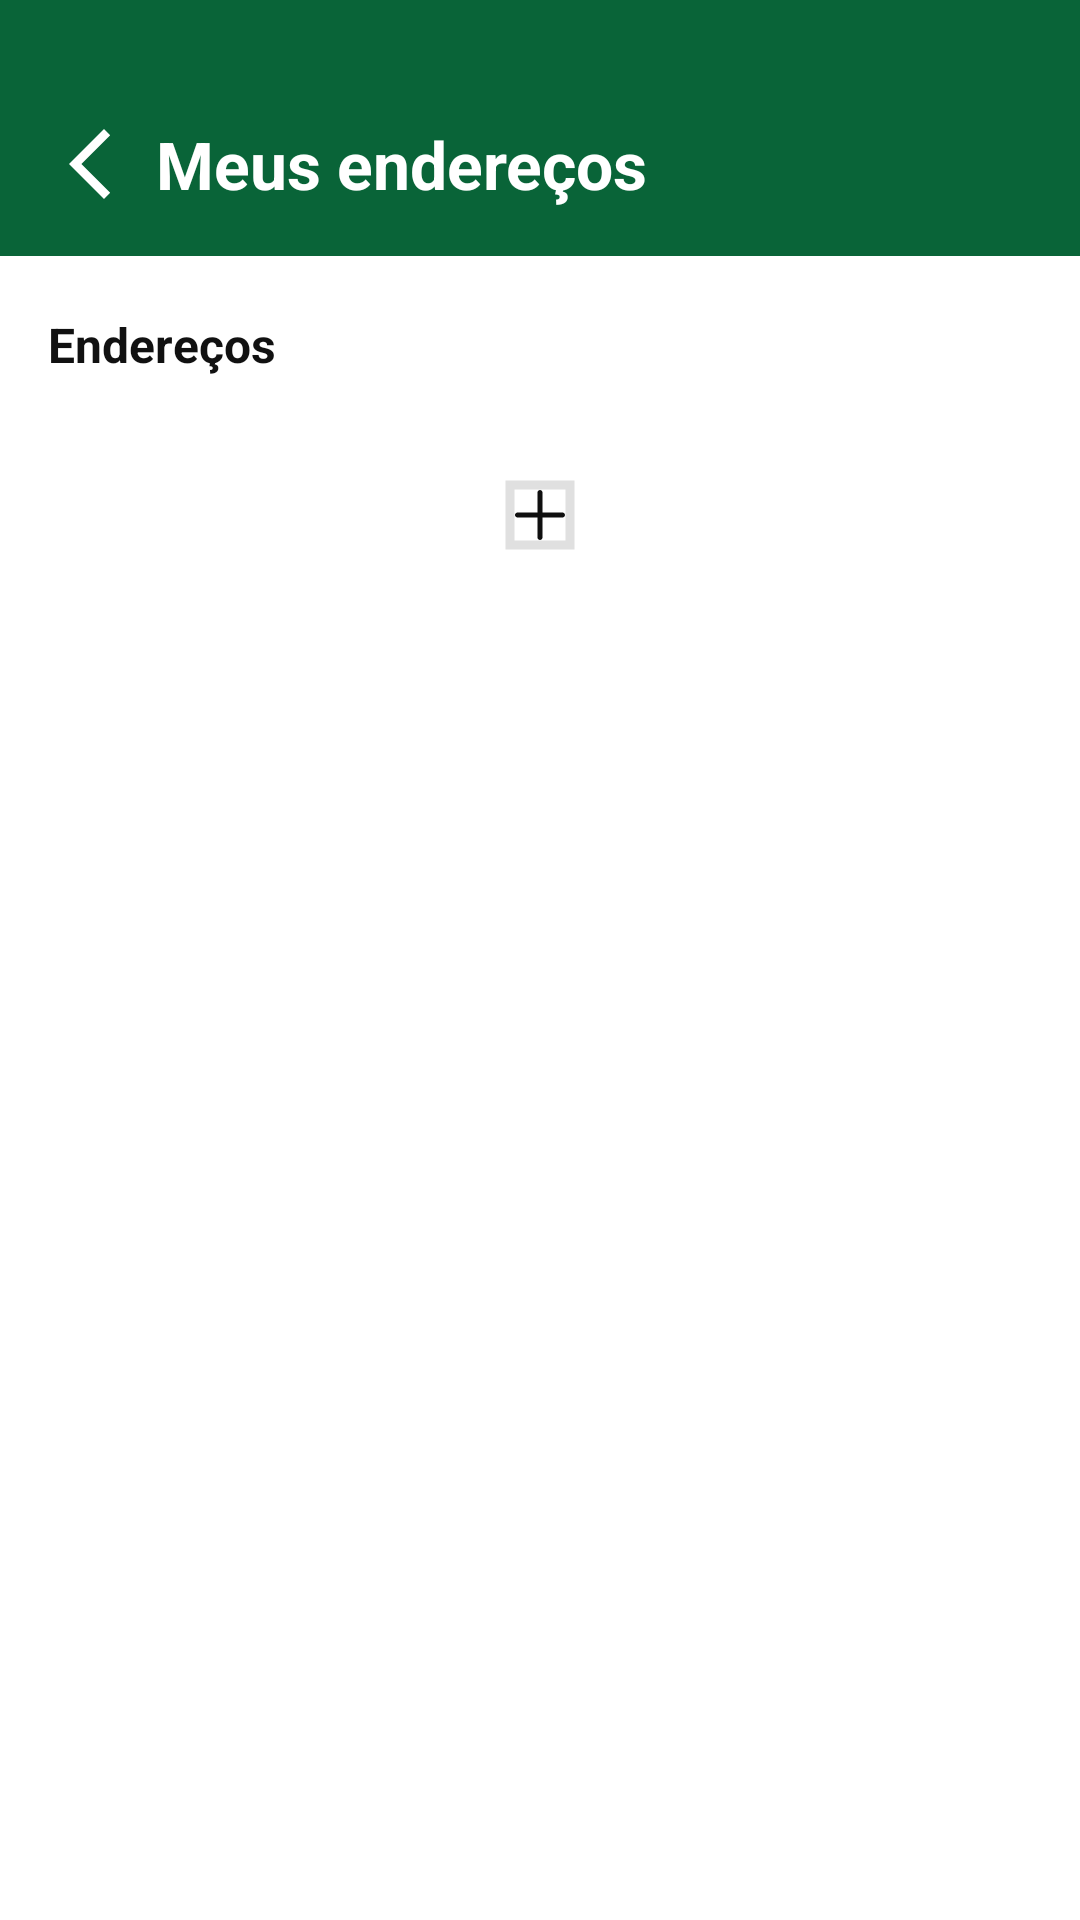

Icons on this 1080px x 1920px Android screen, each with the point to tap as (x,y):
add: (540,515)
Voltar: (89,164)
